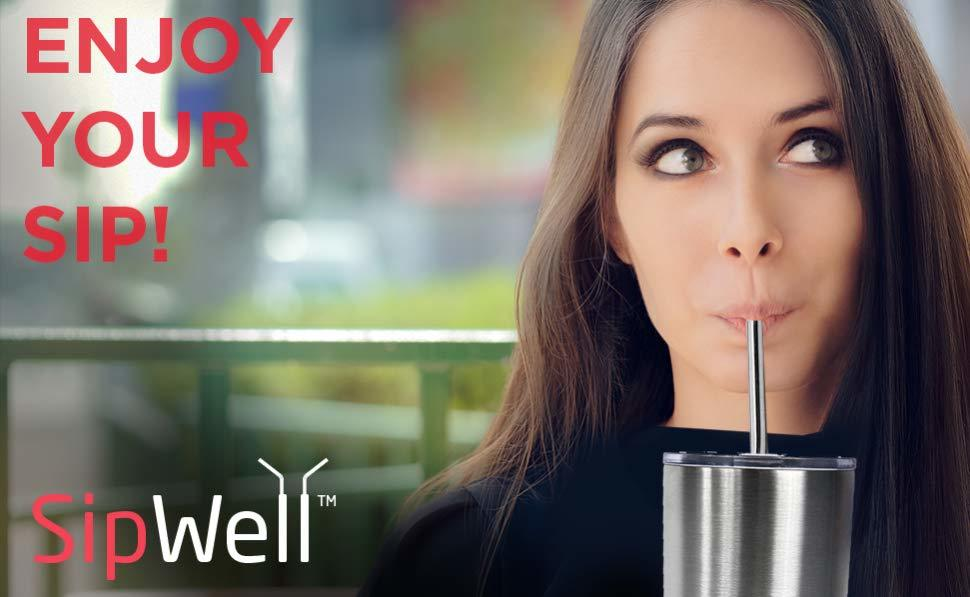drinking: (489, 1, 961, 595)
